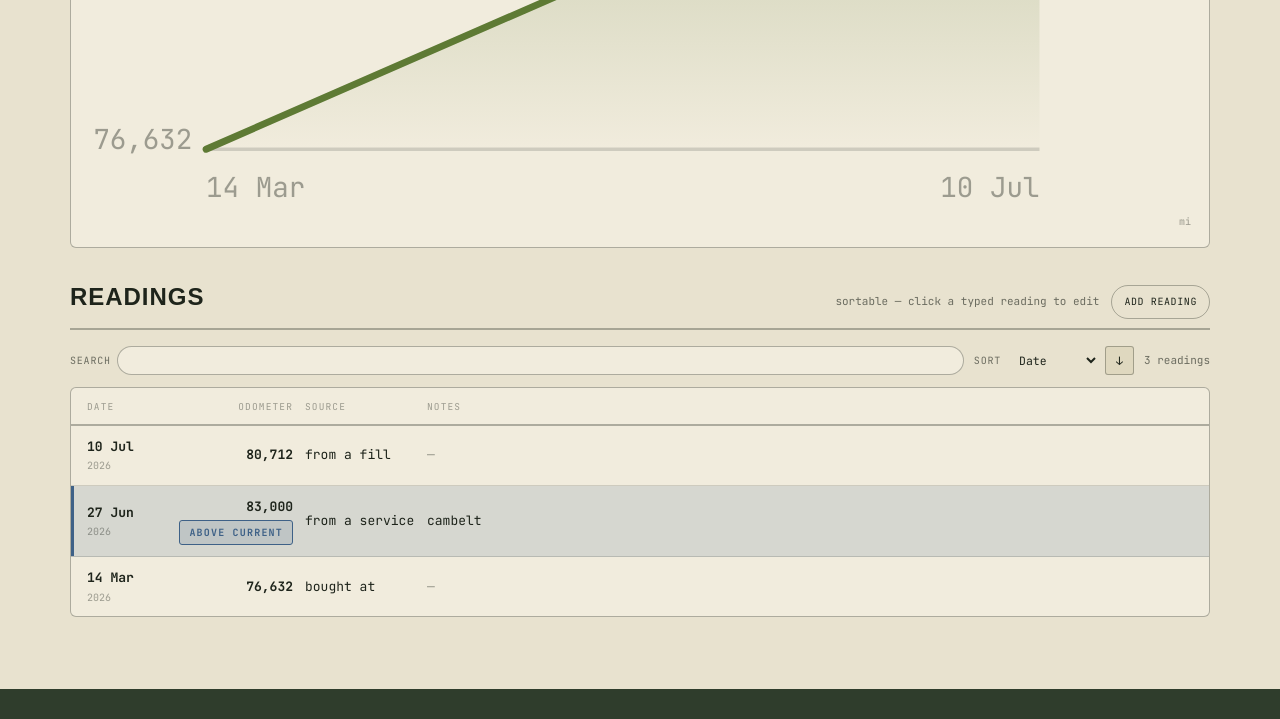
Test: search › finds a reading by its note and by the origin label the column shows
(page scrolled)
Type "cambelt" into the search field labelled "Search" at (540, 361), box x1=117 y1=346 x2=964 y2=376
(page scrolled)
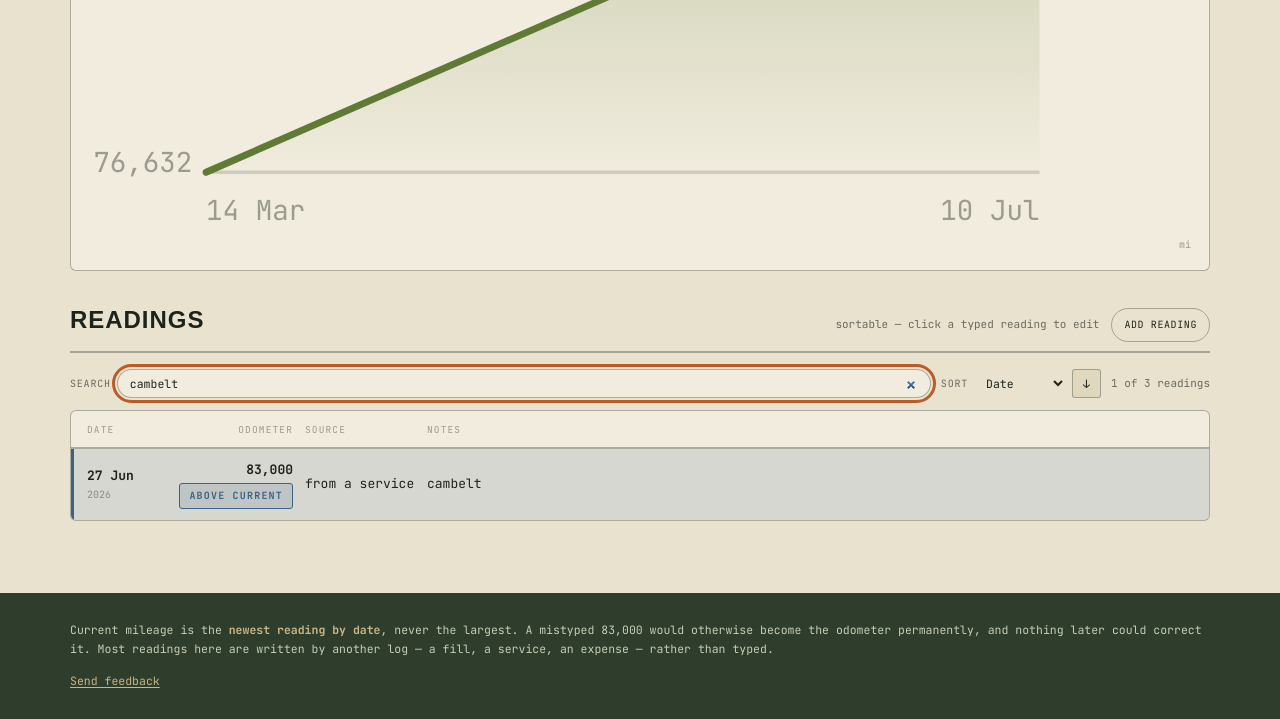
Check: the text with class "tctl-count" shows "1 of 3", box x1=1111 y1=376 x2=1151 y2=390
Clear the search field labelled "Search" at (524, 384), box x1=117 y1=369 x2=931 y2=398
(page scrolled)
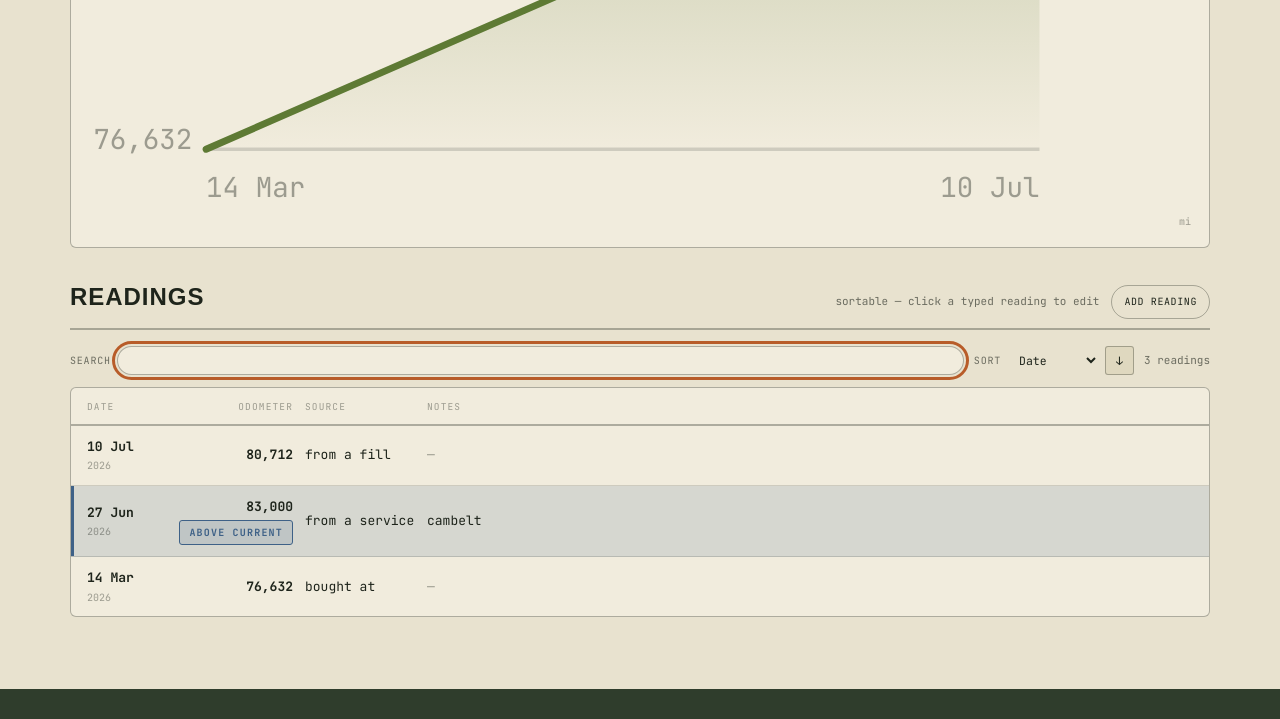
Type "from a fill" into the search field labelled "Search" at (540, 361), box x1=117 y1=346 x2=964 y2=376
(page scrolled)
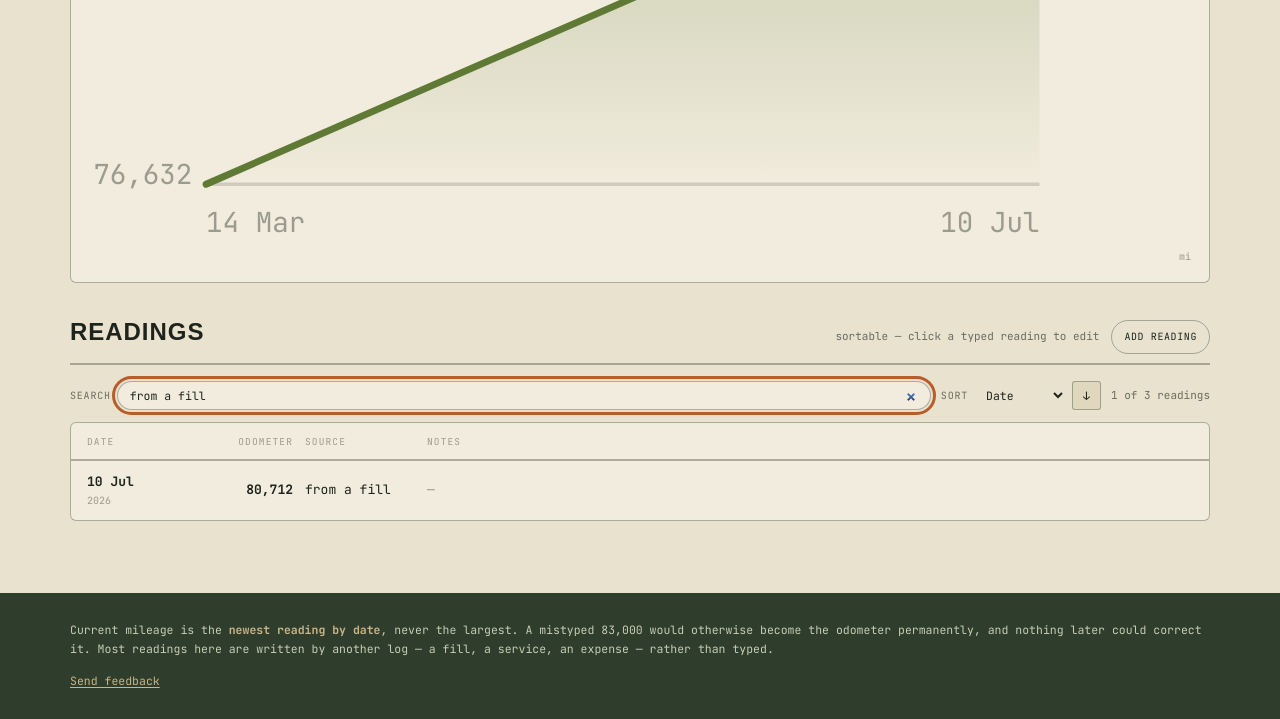
Check: the text with class "tctl-count" shows "1 of 3", box x1=1111 y1=388 x2=1151 y2=402
